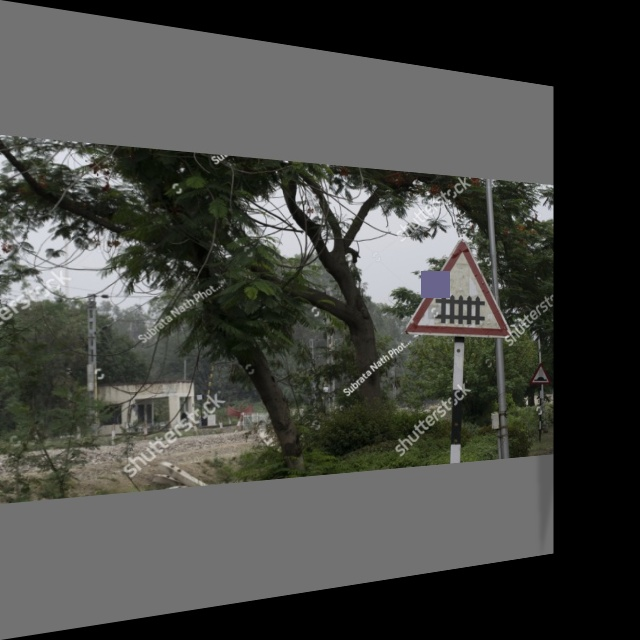Guarded_Level_Crossing: (409, 234, 508, 339)
